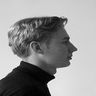ear: (27, 38, 47, 58)
